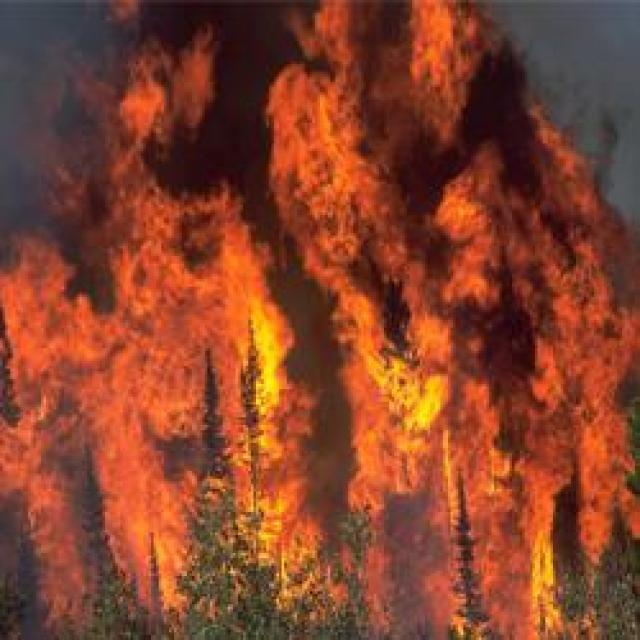Fire: (18, 317, 200, 517), (366, 341, 506, 456), (246, 291, 282, 416)
